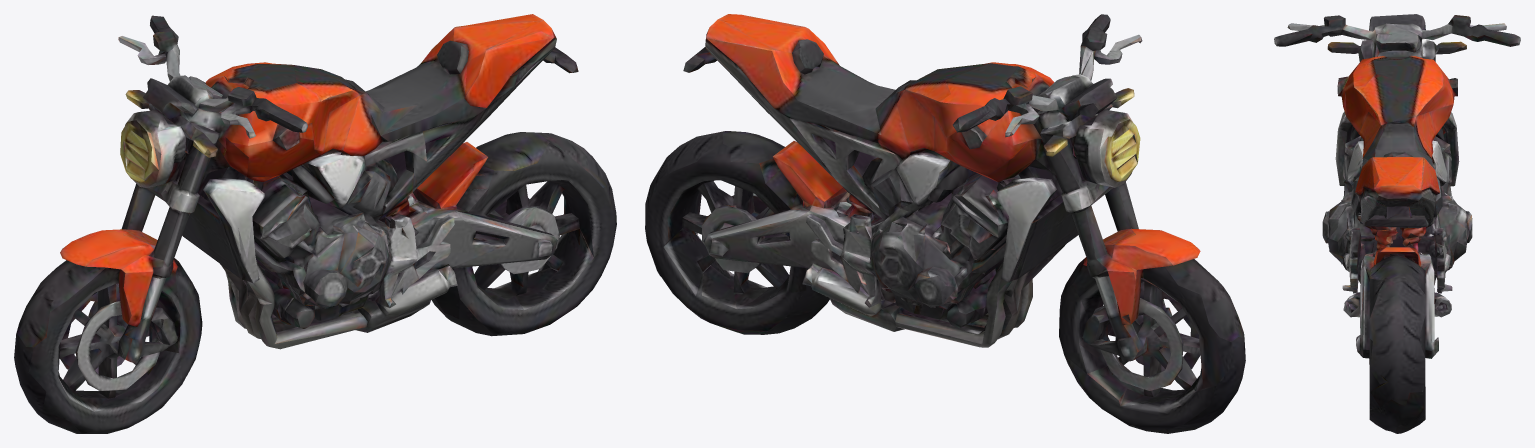
Rendered from bike.glb.
3 views of the same model, side by side, from view 1: azimuth 30°, elevation 25°; view 2: azimuth 150°, elevation 25°; view 3: azimuth 270°, elevation 25° (orthographic). The views are drawn at different scales.
Size of the model in its own units: 1.9 by 1.05 by 0.8326.
1 material, 1 textured.
